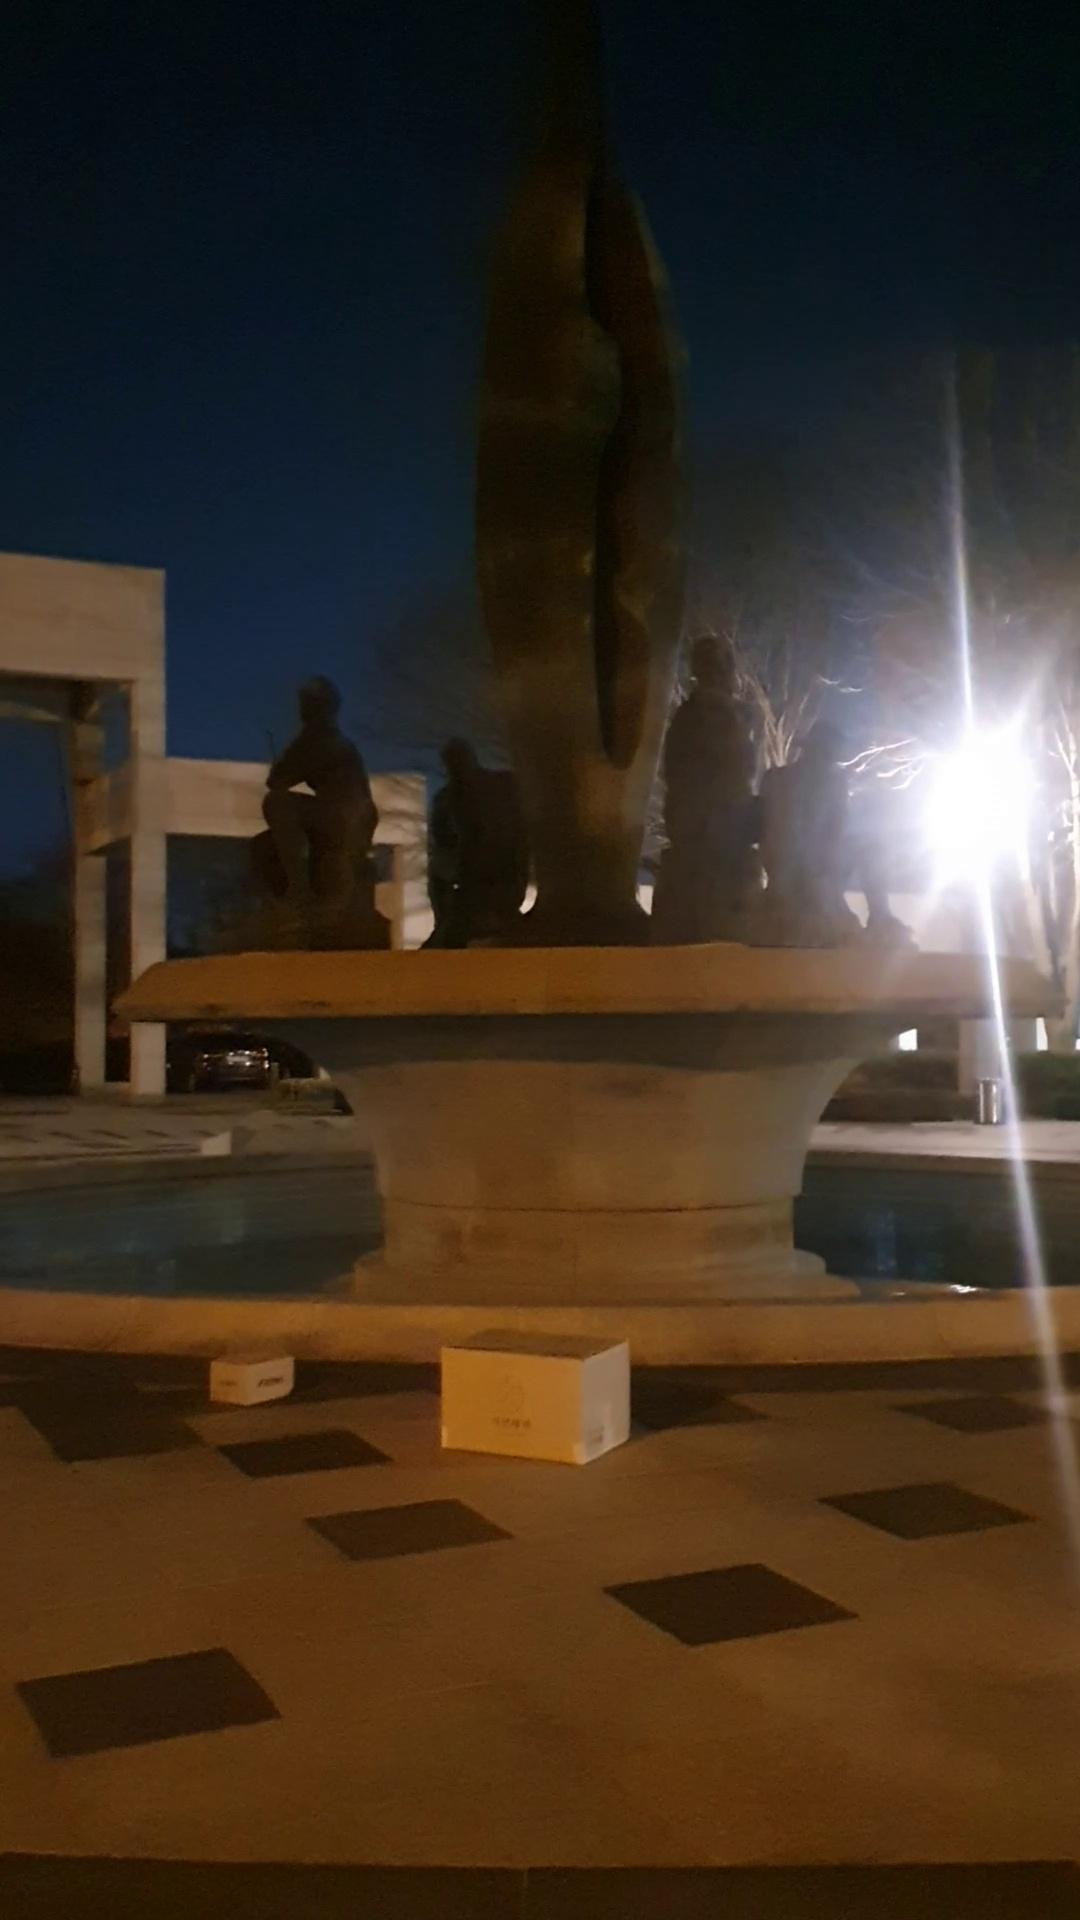Box: (431, 1317, 636, 1473), (198, 1338, 297, 1423)
